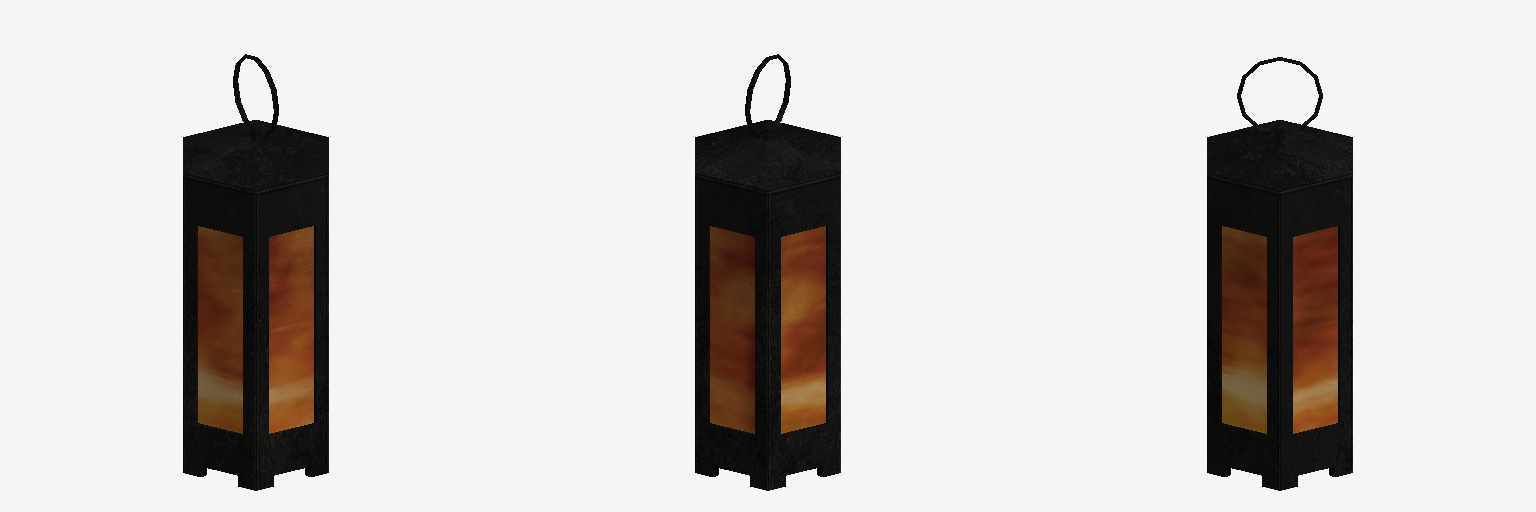
3 views of the same model, side by side, from view 1: azimuth 30°, elevation 25°; view 2: azimuth 150°, elevation 25°; view 3: azimuth 270°, elevation 25° (orthographic).
Visible parts, largest first — view 1: Horn_Lantern; view 2: Horn_Lantern; view 3: Horn_Lantern.
Boxes of the visible parts, x1=… form: Horn_Lantern: x1=183, y1=54, x2=328, y2=490; Horn_Lantern: x1=695, y1=54, x2=840, y2=490; Horn_Lantern: x1=1207, y1=57, x2=1352, y2=490.
Size of the model in its own units: 0.3297 by 0.8599 by 0.2855.
Materials: 1 (1 with a texture image).